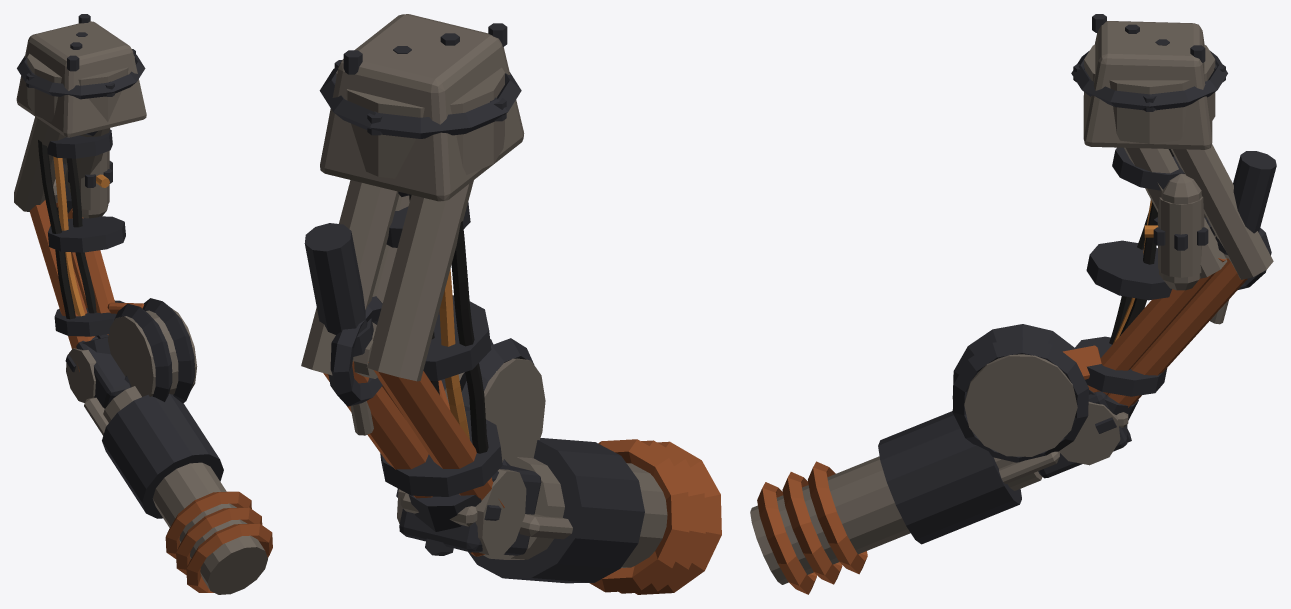
The model's file is ar_mortar.glb.
3 renders of one model, left to right at view 1: azimuth 30°, elevation 25°; view 2: azimuth 150°, elevation 25°; view 3: azimuth 270°, elevation 25°, orthographic. The views are drawn at different scales.
Parts seen in each view (by area): view 1: ar_mortar; view 2: ar_mortar; view 3: ar_mortar.
Part boxes in pixels (box(x1,y1,x2,y2)): ar_mortar: box(14, 14, 272, 594); ar_mortar: box(301, 14, 721, 594); ar_mortar: box(750, 14, 1276, 594).
Bounding box in the file's own units: 0.1183 × 0.4615 × 0.3969.
